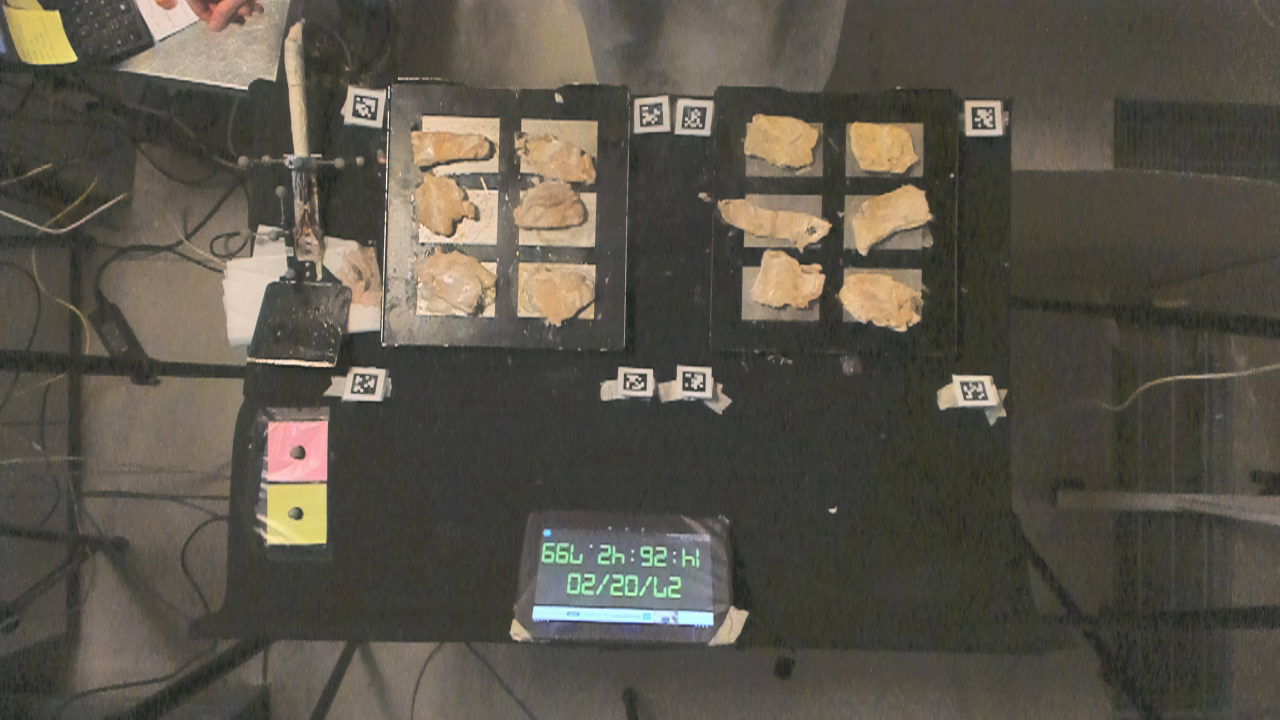chicken: (405, 246, 497, 318), (514, 127, 607, 189), (516, 264, 603, 328), (857, 185, 933, 257), (715, 191, 824, 241), (749, 242, 823, 312), (740, 111, 823, 169), (838, 273, 927, 325), (416, 174, 483, 239), (851, 116, 920, 176), (411, 125, 502, 167), (519, 180, 586, 232)
marker: (268, 422, 328, 482)
